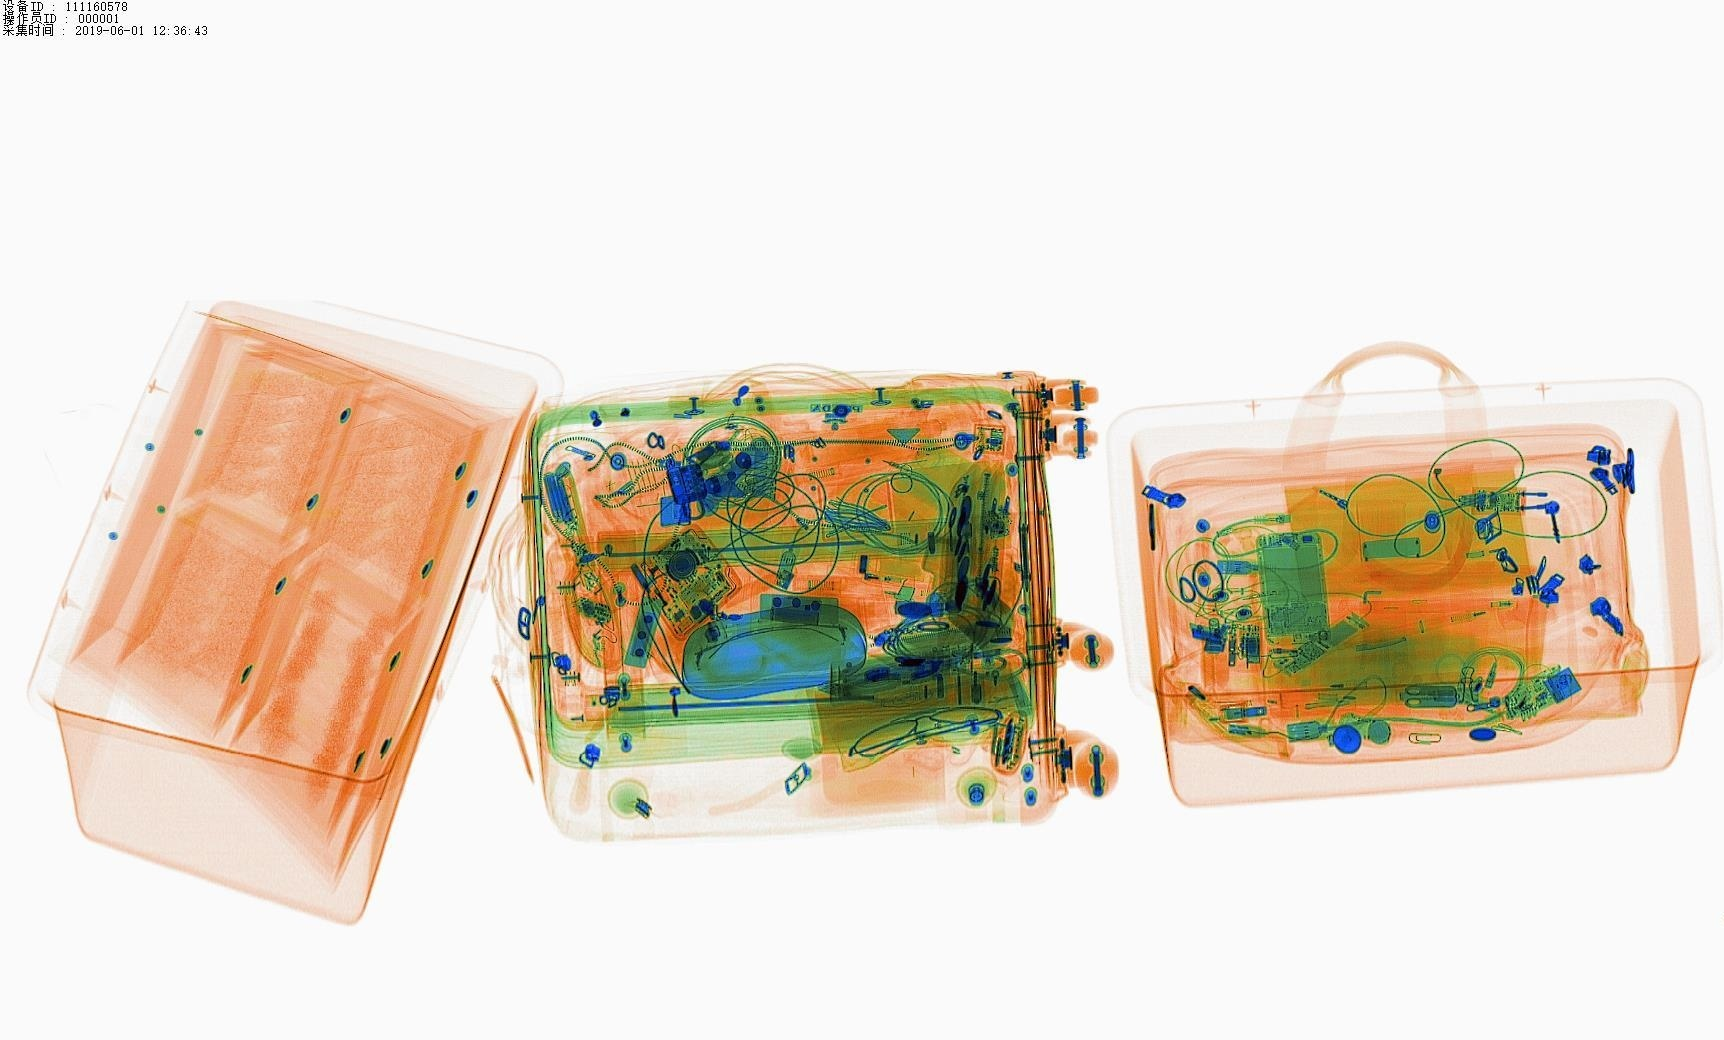NonmetallicFire: (815, 555, 935, 610)
